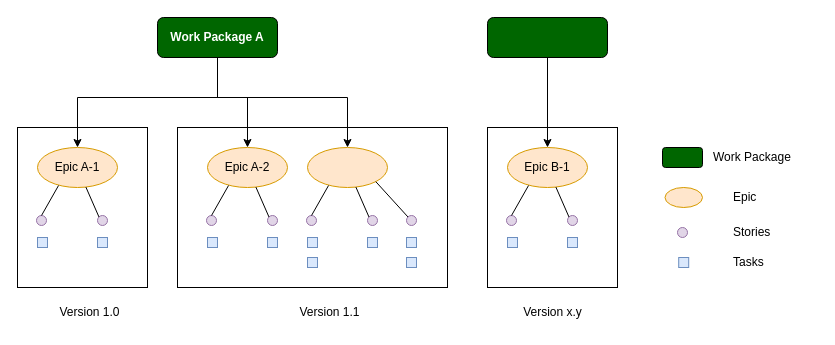
Some shapes in this 835 by 345 pixel diagram are drawn without their labels. The centre of each missing label's shape, as x and y in pixels:
"Epic A-3" goes at point (347, 167).
"Work Package B" goes at point (547, 37).
